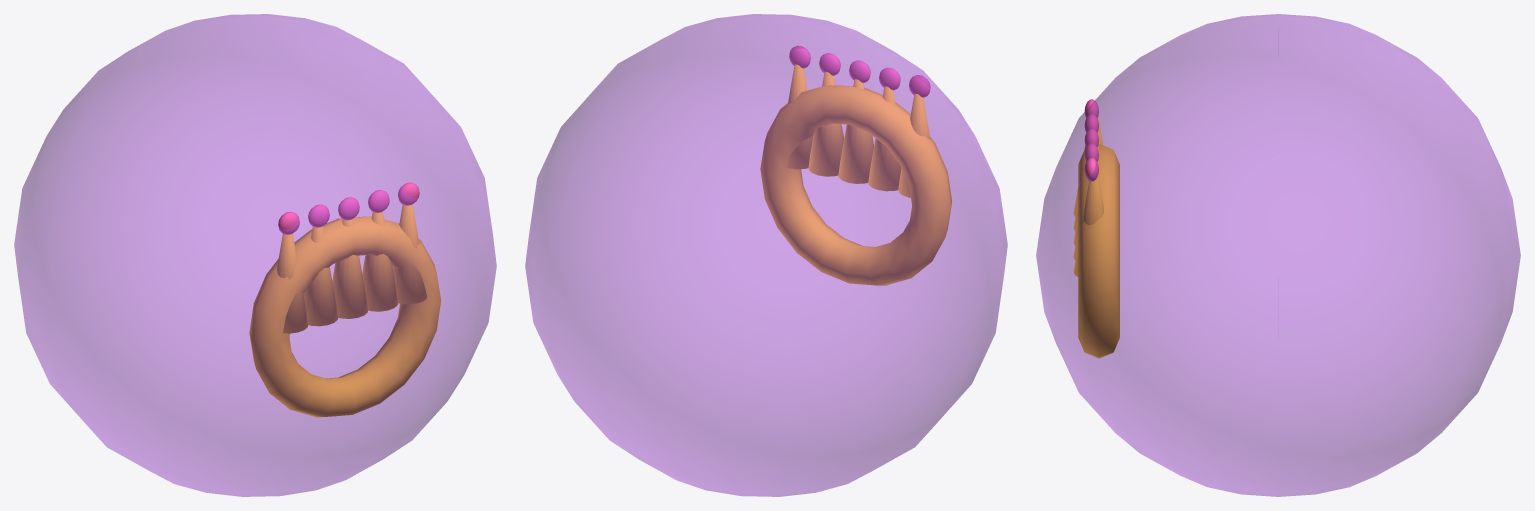
File: SM_JackpotSphere.fbx
The picture shows the model from 3 angles, left to right: view 1: azimuth 30°, elevation 25°; view 2: azimuth 150°, elevation 25°; view 3: azimuth 270°, elevation 25°; orthographic projection.
Parts seen in each view (by area): view 1: SM_JackpotSphere; view 2: SM_JackpotSphere; view 3: SM_JackpotSphere.
Part boxes in pixels (x1=…): SM_JackpotSphere: x1=14, y1=14, x2=496, y2=496; SM_JackpotSphere: x1=525, y1=14, x2=1007, y2=496; SM_JackpotSphere: x1=1036, y1=14, x2=1520, y2=496.
Size of the model in its own units: 2 by 2 by 2.
